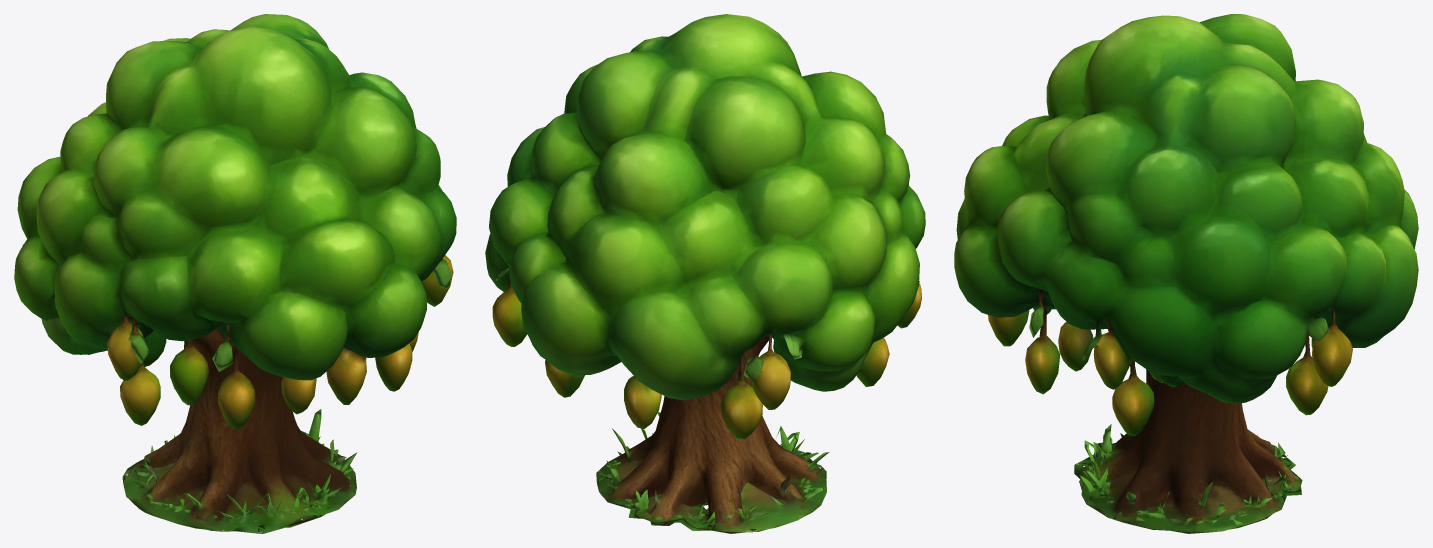
Rendered from mango.glb.
3 renders of one model, left to right at view 1: azimuth 30°, elevation 25°; view 2: azimuth 150°, elevation 25°; view 3: azimuth 270°, elevation 25°, orthographic.
Bounding box in the file's own units: 0.8648 × 0.9982 × 0.9115.
Materials: 1 (1 with a texture image).
